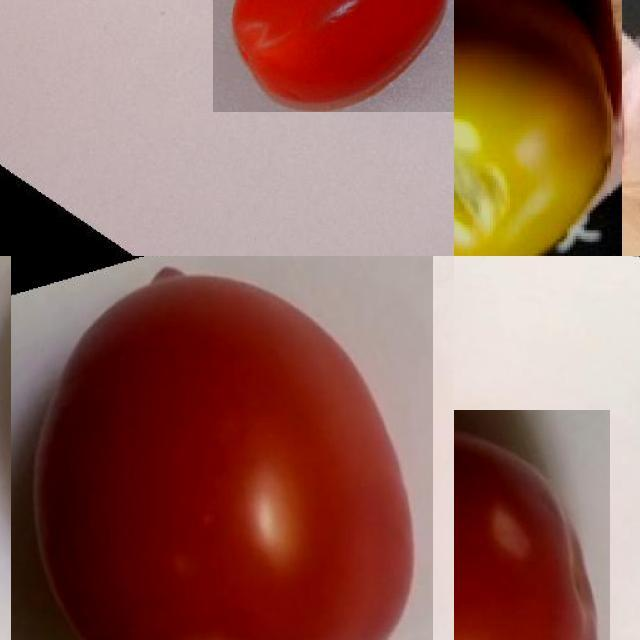Fresh Tomato: (11, 256, 432, 640), (454, 410, 610, 640), (213, 0, 454, 112)
Rotten Tomato: (454, 0, 622, 256)
